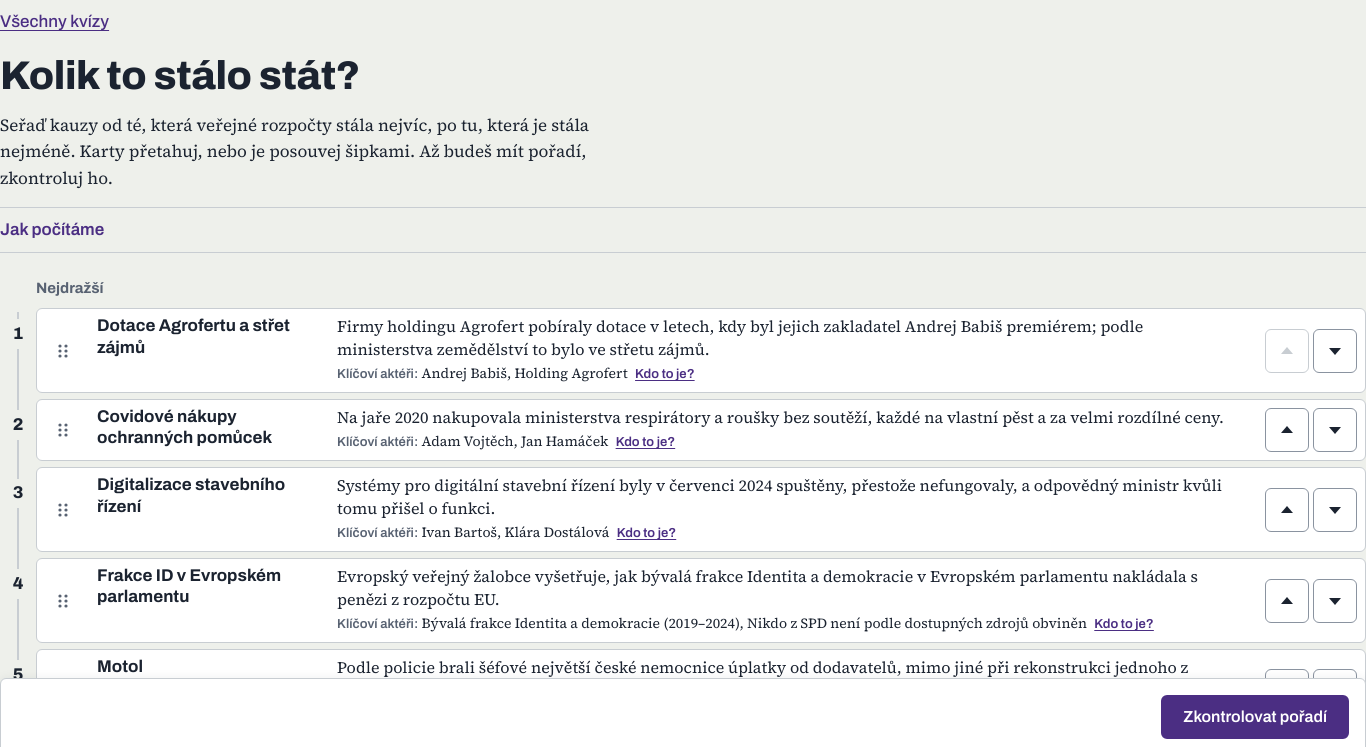
it: OrderingQuiz › ani po kontrole se zamčenými kartami se částky neukážou
Click the button "Zkontrolovat pořadí": (1255, 717) [1161, 694, 1349, 739]
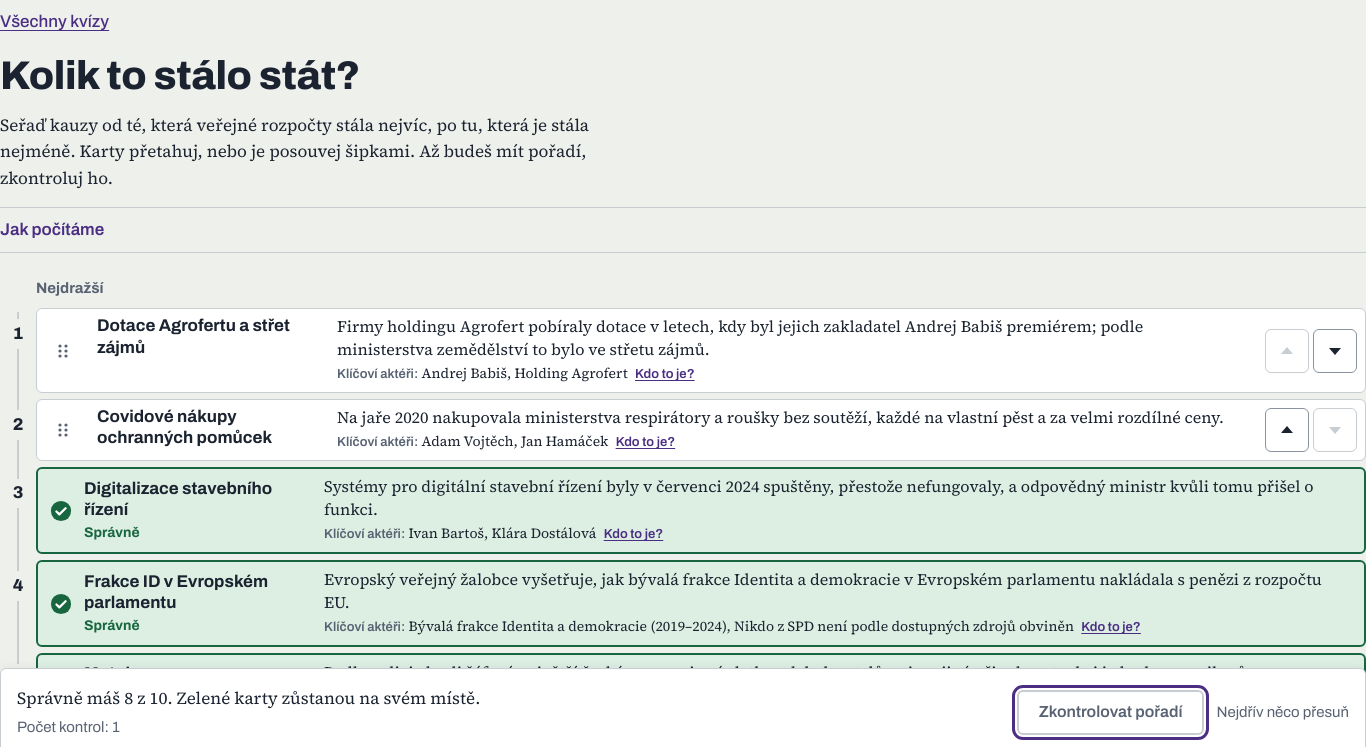
Expected: the text "Správně" is shown 8 times
